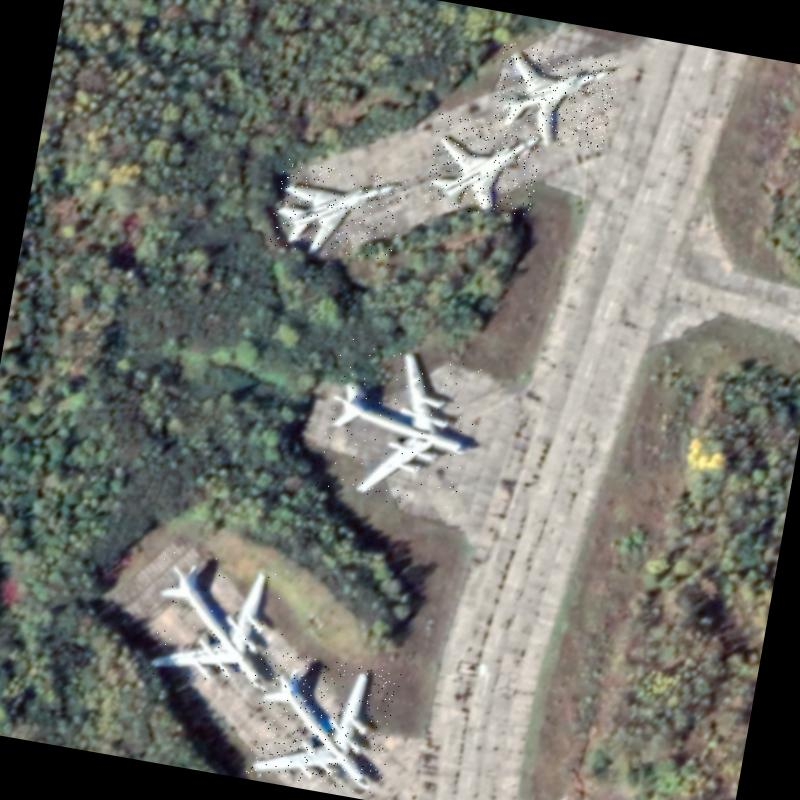A12: (268, 158, 407, 267), (489, 42, 621, 153), (423, 112, 546, 222)
A17: (311, 336, 486, 515), (244, 648, 401, 798), (143, 549, 294, 696)
